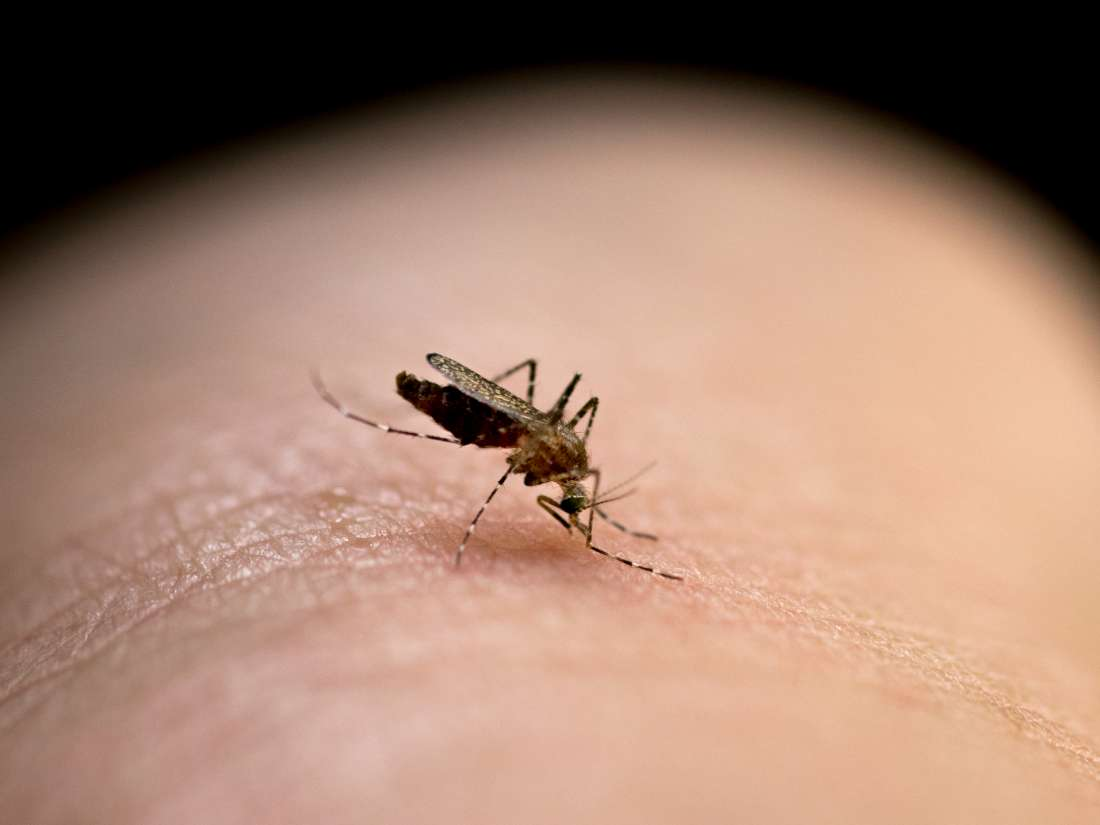dengue_mosquito: (342, 352, 685, 587)
